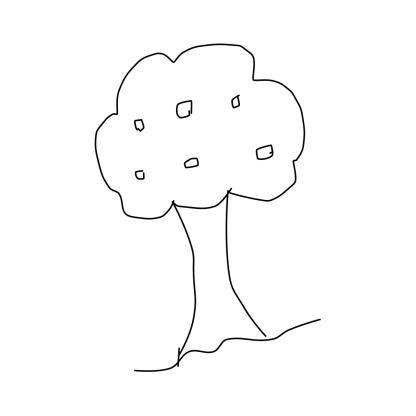crown_cloud: (93, 43, 306, 218)
root_none: (160, 328, 294, 381)
trunk_reflex: (178, 217, 259, 324)
